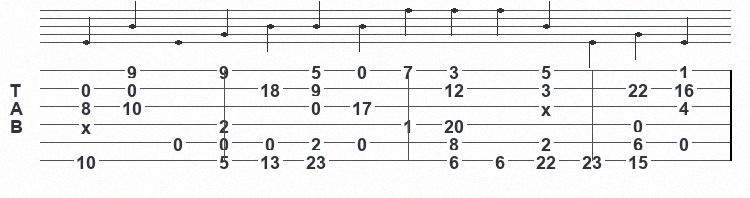0: (81, 80, 95, 97), (127, 80, 141, 97), (173, 134, 187, 151), (219, 134, 233, 151), (265, 134, 279, 151), (311, 98, 325, 115), (357, 134, 371, 151), (357, 62, 371, 79), (633, 116, 647, 133), (679, 134, 693, 151)
1: (403, 116, 417, 133), (679, 62, 693, 79)
10: (76, 152, 100, 169), (122, 98, 146, 115)
12: (444, 80, 468, 97)
13: (260, 152, 284, 169)
15: (628, 152, 652, 169)
16: (674, 80, 698, 97)
17: (352, 98, 376, 115)
18: (260, 80, 284, 97)
2: (219, 116, 233, 133), (311, 134, 325, 151), (541, 134, 555, 151)
20: (444, 116, 468, 133)
22: (536, 152, 560, 169), (628, 80, 652, 97)
23: (306, 152, 330, 169), (582, 152, 606, 169)
3: (449, 62, 463, 79), (541, 80, 555, 97)
4: (679, 98, 693, 115)
5: (219, 152, 233, 169), (311, 62, 325, 79), (541, 62, 555, 79)
6: (449, 152, 463, 169), (495, 152, 509, 169), (633, 134, 647, 151)
7: (403, 62, 417, 79)
8: (81, 98, 95, 115), (449, 134, 463, 151)
9: (127, 62, 141, 79), (219, 62, 233, 79), (311, 80, 325, 97)
x: (81, 117, 95, 131), (541, 99, 555, 113)
